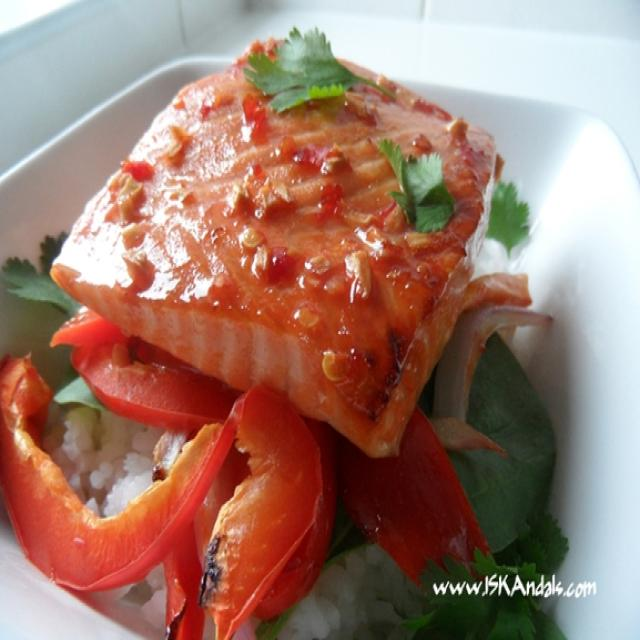熟制海鲜: (6, 7, 614, 624)
